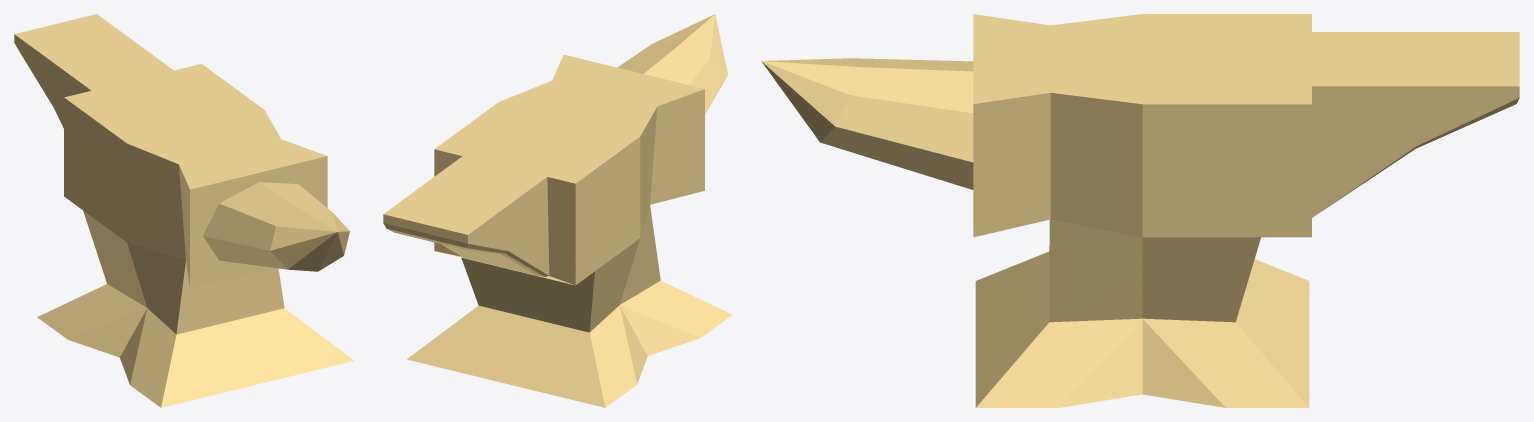
The model's file is Bigorna_Avançada.fbx.
The picture shows the model from 3 angles, left to right: view 1: azimuth 30°, elevation 25°; view 2: azimuth 150°, elevation 25°; view 3: azimuth 270°, elevation 25°; orthographic projection. The views are drawn at different scales.
Parts seen in each view (by area): view 1: Bigorna; view 2: Bigorna; view 3: Bigorna.
Boxes of the visible parts, left/top/right/bottom form: Bigorna: left=14, top=14, right=354, bottom=407; Bigorna: left=383, top=14, right=732, bottom=407; Bigorna: left=761, top=14, right=1519, bottom=407.
Size of the model in its own units: 42.2 by 44.21 by 107.
1 material, 1 textured.
